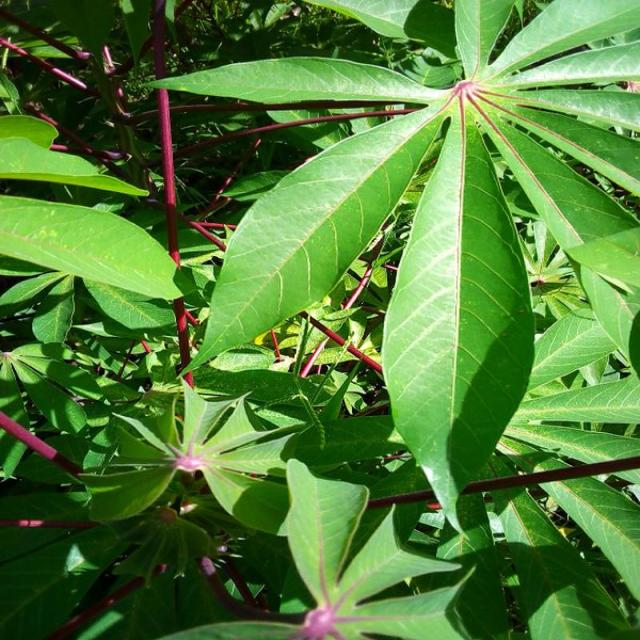cassava leaf: (183, 94, 454, 375), (380, 94, 538, 535), (1, 193, 186, 302)
